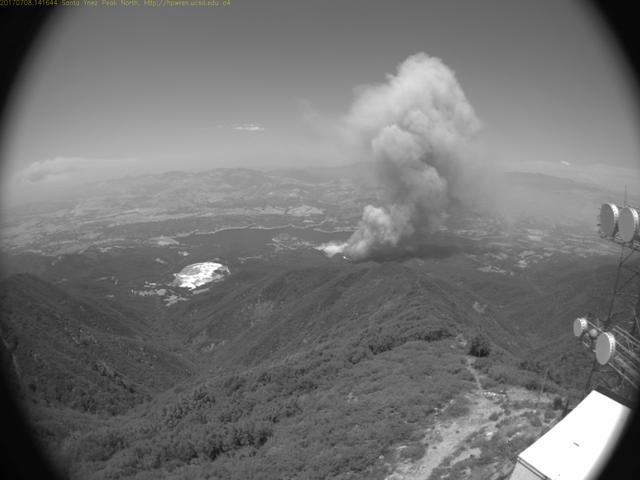smoke: (313, 47, 491, 266)
